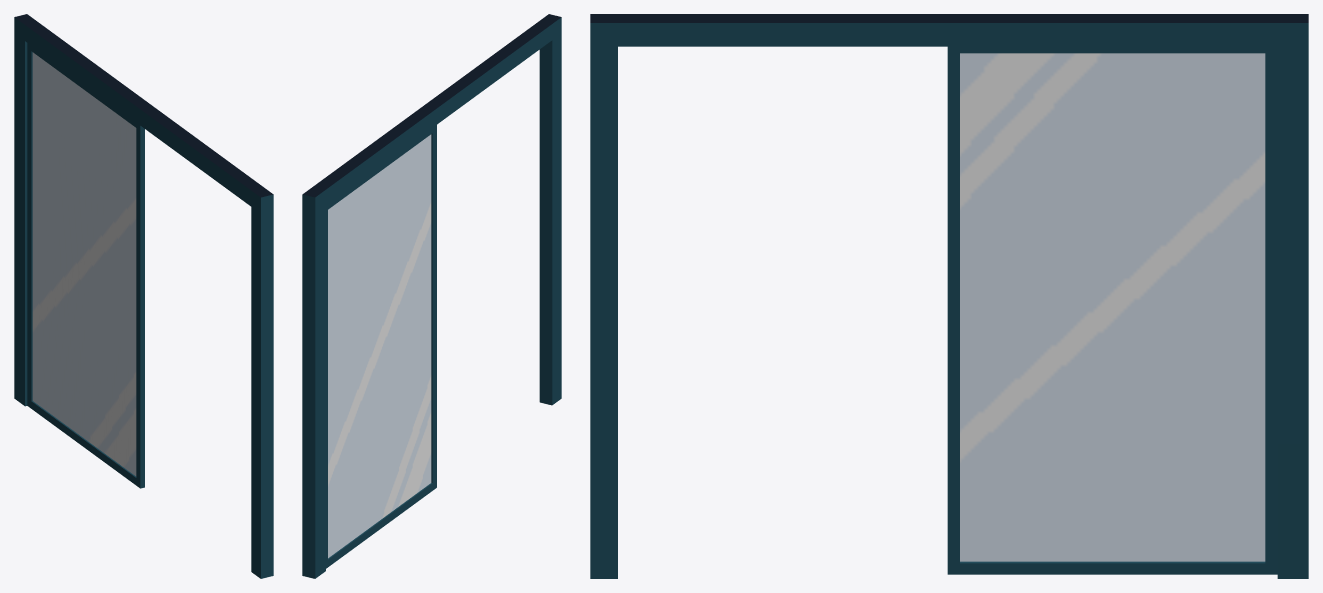
The model's file is Porte_Double_Vitree.FBX.
3 views of the same model, side by side, from view 1: azimuth 30°, elevation 25°; view 2: azimuth 150°, elevation 25°; view 3: azimuth 270°, elevation 25° (orthographic). The views are drawn at different scales.
Parts seen in each view (by area): view 1: Porte_Double_Vitree; view 2: Porte_Double_Vitree; view 3: Porte_Double_Vitree.
Part boxes in pixels (<box>): Porte_Double_Vitree: <box>14,14,273,578</box>; Porte_Double_Vitree: <box>302,14,561,578</box>; Porte_Double_Vitree: <box>590,14,1308,578</box>.
Bounding box in the file's own units: 0.0804 × 2.27 × 2.66.
